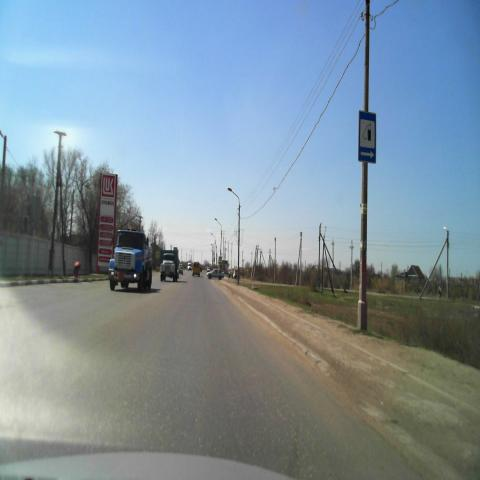7_3: (358, 109, 376, 163)
